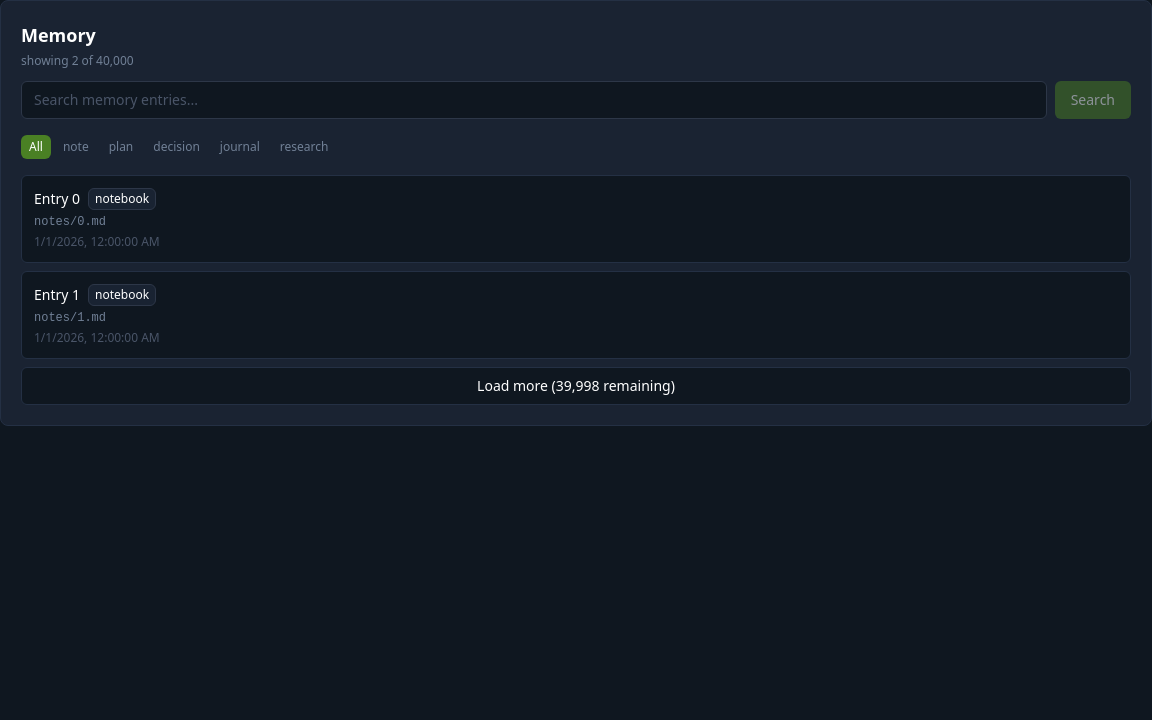
it: AgentMemory renders the truncation rather than hiding it › offers more, and asks for the next page by offset
This screenshot has width=1152, height=720.
Click the button with test id "load-more" at point(576, 386), box [21,367,1131,405]
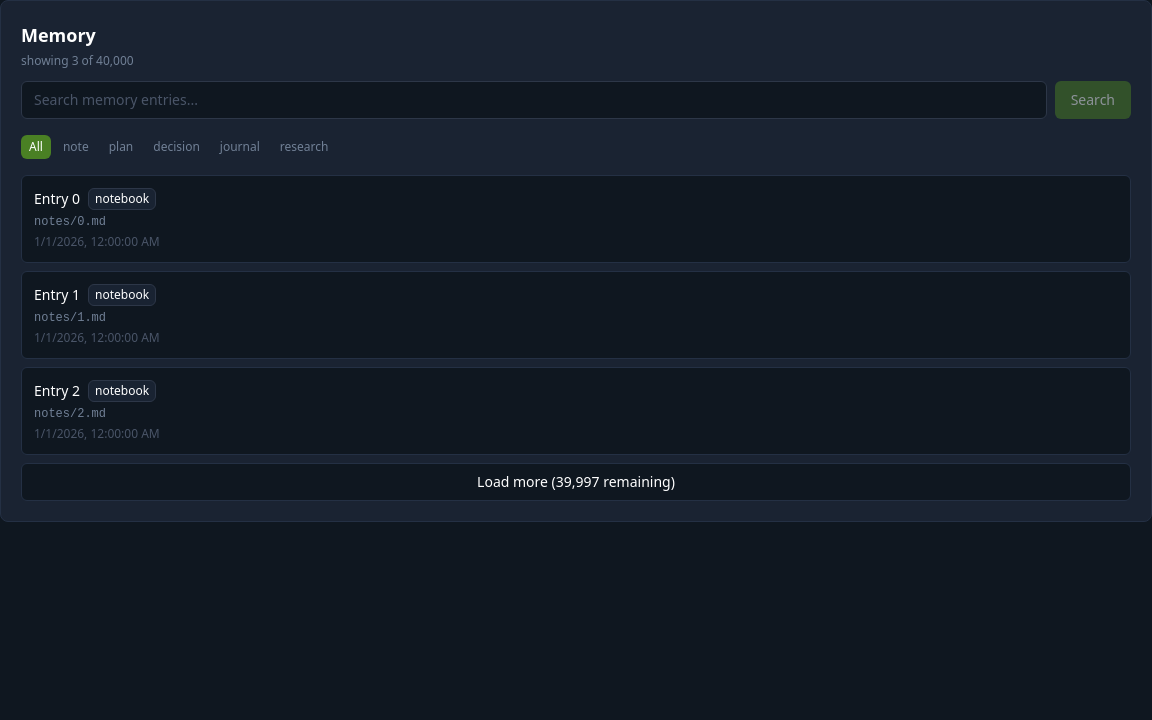
Expected: the number of buttons with test id "entry-item" is 3, [21,175,1131,263]; [21,271,1131,359]; [21,367,1131,455]
